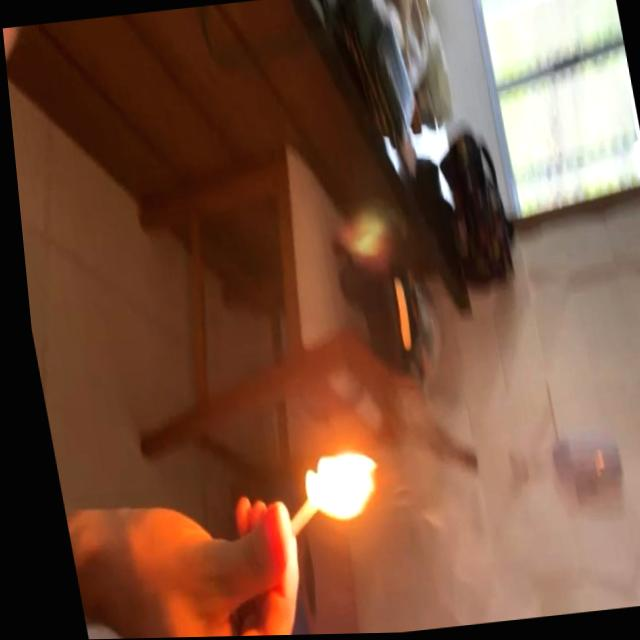Fire: (279, 447, 378, 529)
